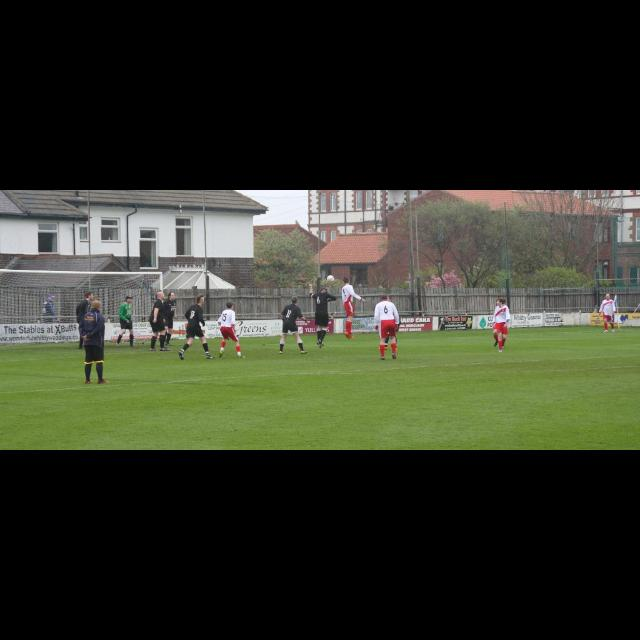Football: (324, 274, 334, 282)
